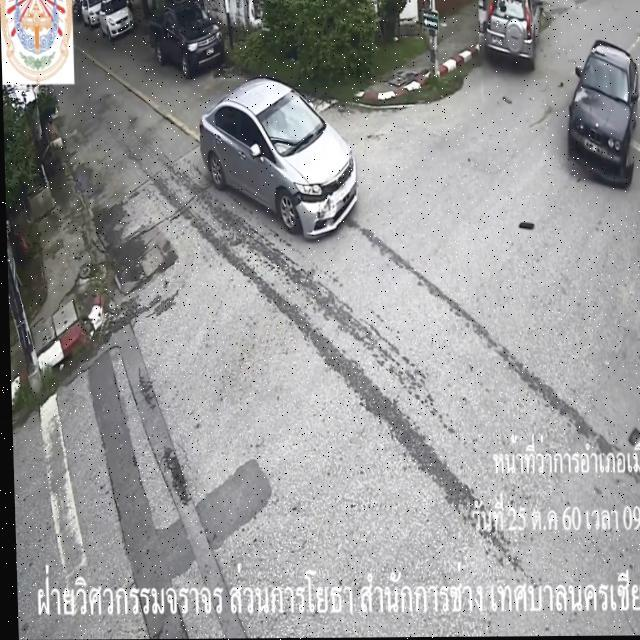single accident: (173, 65, 409, 269), (563, 27, 640, 196)
